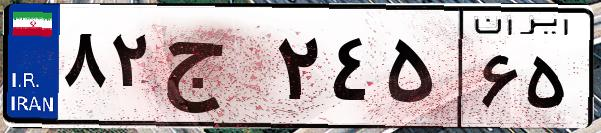2: (270, 28, 330, 110), (110, 28, 158, 98)
4: (330, 28, 385, 110)
5: (385, 28, 445, 110), (525, 38, 570, 115)
6: (475, 38, 525, 113)
8: (57, 26, 110, 100)
ج: (158, 20, 270, 120)
